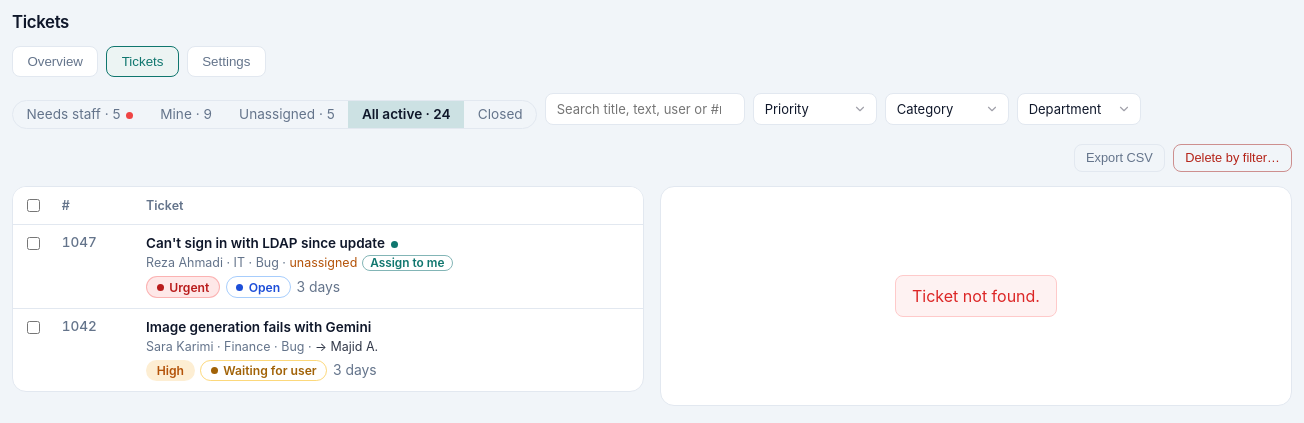
Test case: the queue keeps up › does not show the last ticket's error while the next one loads
Expected: the element with class "tickets-detail" reads "Ticket not found.", x1=912 y1=286 x2=1040 y2=306
Click the button with class "tickets-row-title" that starts with "Can't sign in with LDAP since update": [390, 243] box x1=146 y1=234 x2=633 y2=252
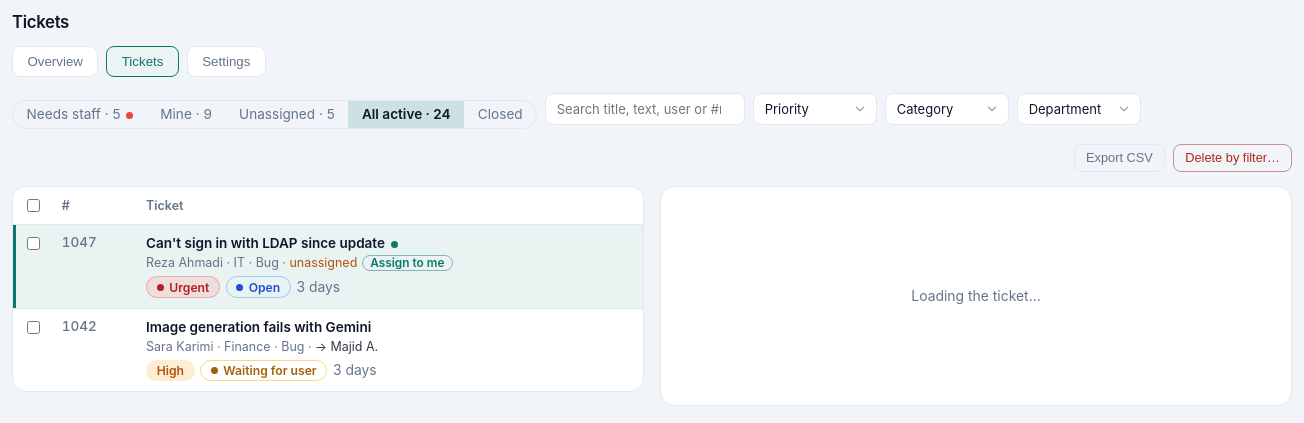
Now the element with class "tickets-detail" reads "Loading the ticket…", box x1=911 y1=288 x2=1041 y2=304
Now the text with class "tickets-detail" no longer shows "Ticket not found."
